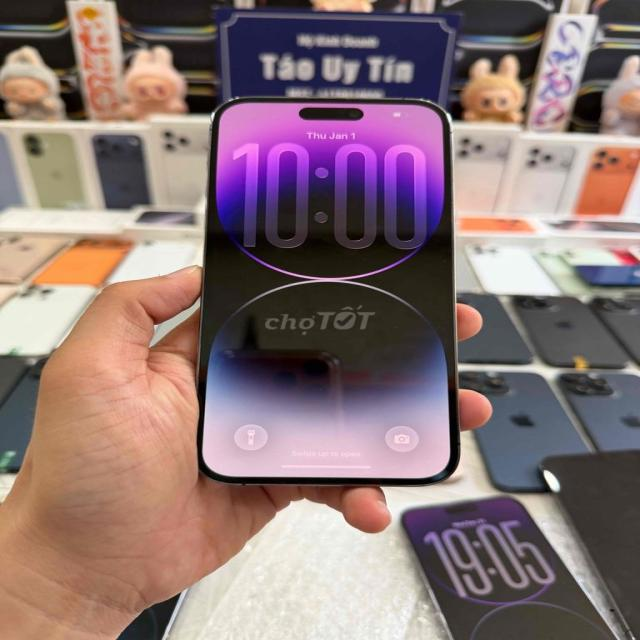gen_14: (180, 80, 480, 496)
